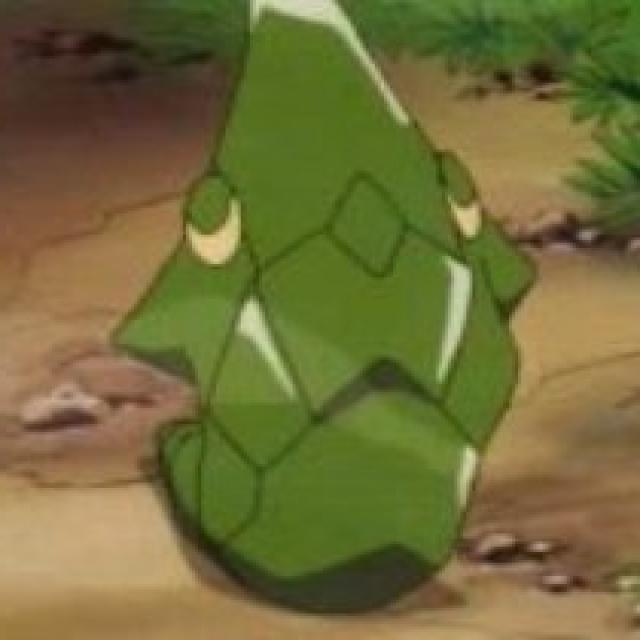Metapod: (151, 1, 532, 608)
